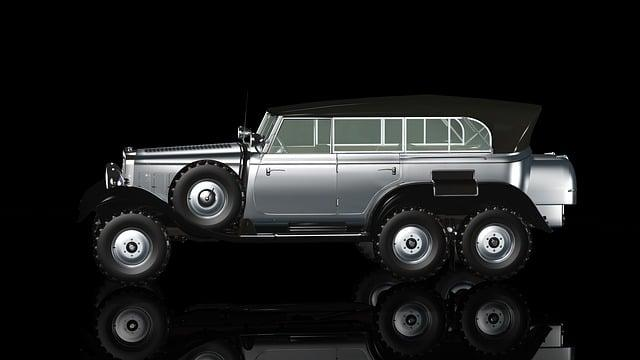Non_Gorille: (70, 29, 606, 352)
